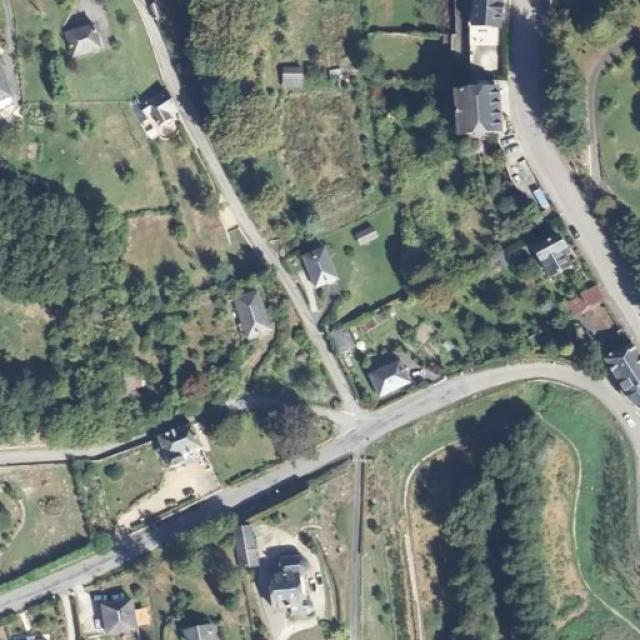ferme: (0, 36, 19, 106)
maison: (455, 62, 508, 138), (269, 540, 320, 618), (530, 217, 580, 286), (591, 344, 640, 410), (133, 70, 183, 132), (157, 408, 206, 469), (460, 0, 506, 62), (96, 583, 141, 639), (230, 282, 274, 337), (368, 343, 411, 398), (301, 233, 337, 290), (233, 523, 259, 569), (65, 22, 101, 54), (184, 607, 216, 640), (278, 64, 310, 88)
